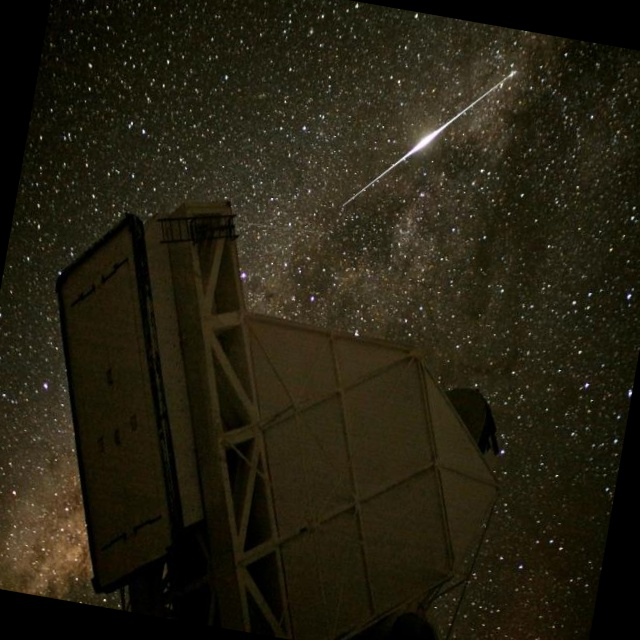satellite: (5, 171, 550, 640)
